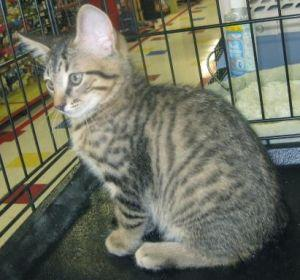bengal: (3, 2, 135, 126)
